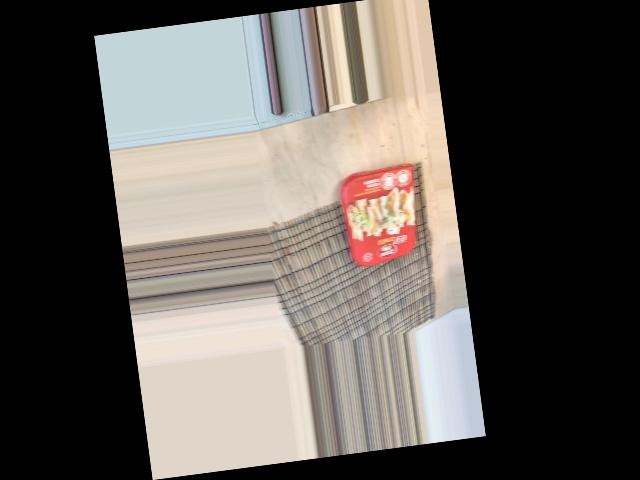cheese: (337, 148, 431, 271)
